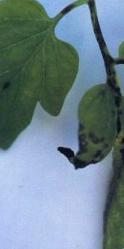Tomato leaf bacterial spot: (0, 0, 78, 170), (61, 79, 124, 249)
